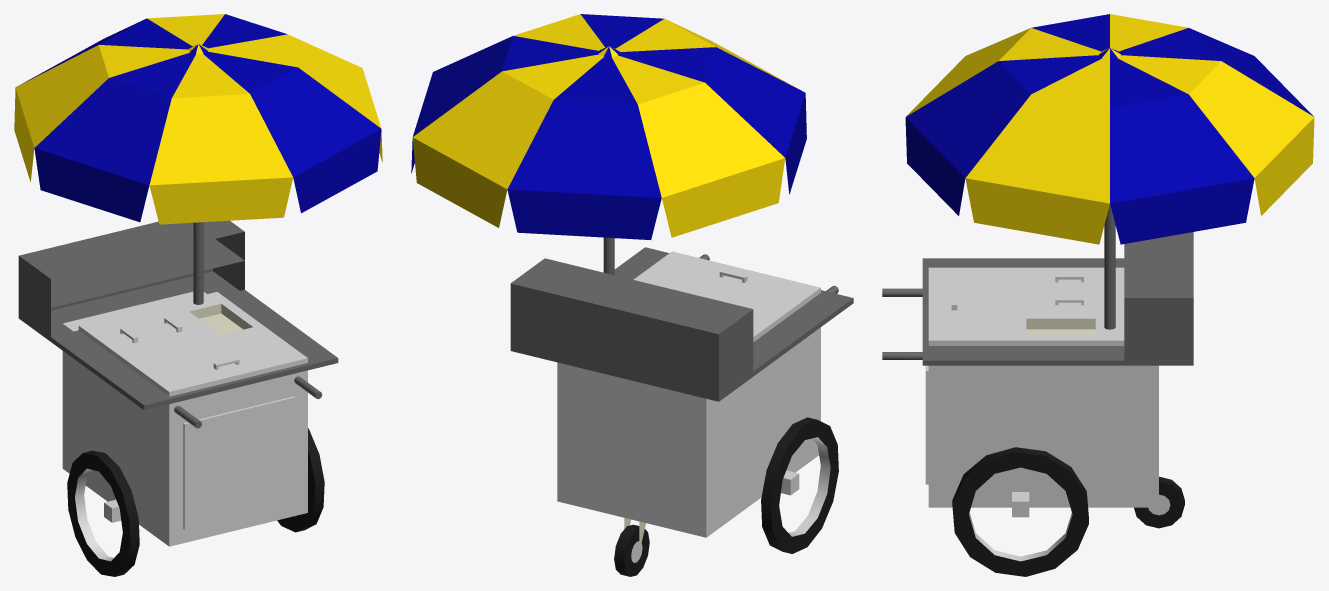
3 views of the same model, side by side, from view 1: azimuth 30°, elevation 25°; view 2: azimuth 150°, elevation 25°; view 3: azimuth 270°, elevation 25° (orthographic). The views are drawn at different scales.
Parts seen in each view (by area): view 1: Mesh16 Model, Mesh3 Group4 Group2 Model, Mesh8 wheel1 Model, Mesh15 wheel2 Model, Mesh2 Group3 Group2 Model; view 2: Mesh3 Group4 Group2 Model, Mesh16 Model, Mesh8 wheel1 Model, Mesh1 Group1 Model; view 3: Mesh3 Group4 Group2 Model, Mesh16 Model, Mesh15 wheel2 Model, Mesh1 Group1 Model, Mesh2 Group3 Group2 Model.
Part boxes in pixels (left/top/right/bottom): Mesh16 Model: left=18, top=220, right=338, bottom=546; Mesh3 Group4 Group2 Model: left=14, top=14, right=382, bottom=224; Mesh8 wheel1 Model: left=67, top=450, right=139, bottom=576; Mesh15 wheel2 Model: left=277, top=428, right=324, bottom=532; Mesh2 Group3 Group2 Model: left=193, top=222, right=203, bottom=304; Mesh3 Group4 Group2 Model: left=411, top=14, right=806, bottom=239; Mesh16 Model: left=510, top=247, right=853, bottom=537; Mesh8 wheel1 Model: left=761, top=417, right=838, bottom=553; Mesh1 Group1 Model: left=614, top=524, right=649, bottom=576; Mesh3 Group4 Group2 Model: left=905, top=14, right=1314, bottom=244; Mesh16 Model: left=922, top=232, right=1193, bottom=507; Mesh15 wheel2 Model: left=952, top=447, right=1088, bottom=576; Mesh1 Group1 Model: left=1134, top=476, right=1184, bottom=528; Mesh2 Group3 Group2 Model: left=1104, top=204, right=1115, bottom=329.
Bounding box in the file's own units: 71 × 96.01 × 75.
